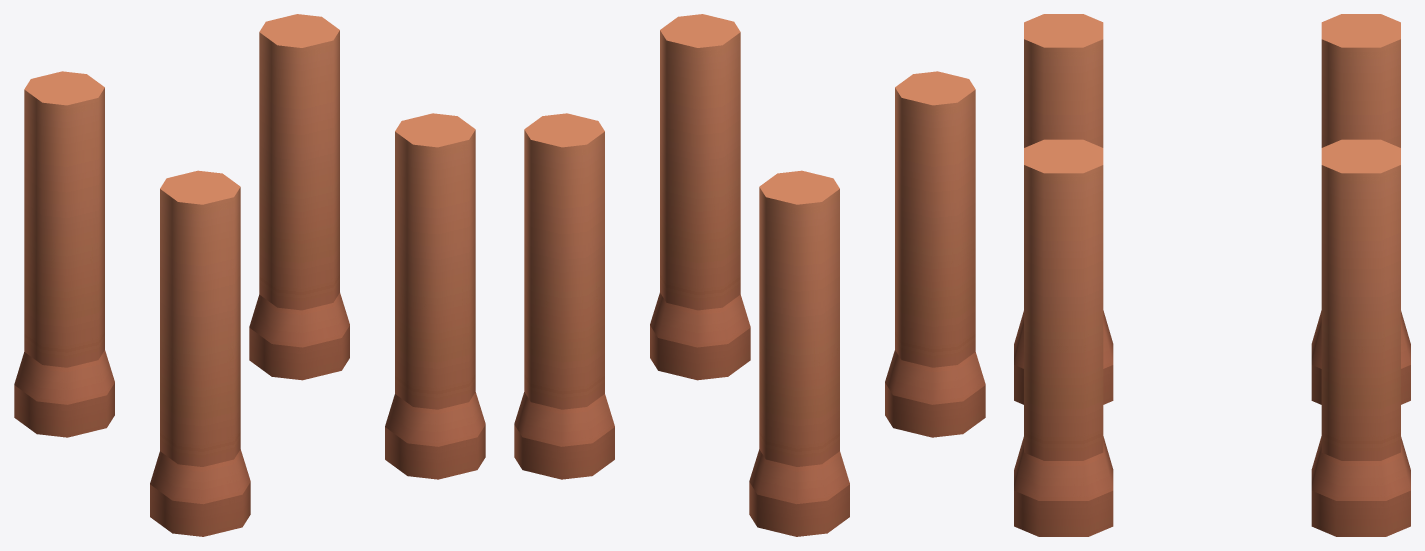
The model's file is supports-bottom.glb.
3 renders of one model, left to right at view 1: azimuth 30°, elevation 25°; view 2: azimuth 150°, elevation 25°; view 3: azimuth 270°, elevation 25°, orthographic. The views are drawn at different scales.
Parts seen in each view (by area): view 1: supports-bottom; view 2: supports-bottom; view 3: supports-bottom.
Part boxes in pixels (x1,y1,x2,y2): supports-bottom: [14, 14, 485, 536]; supports-bottom: [514, 14, 985, 536]; supports-bottom: [1014, 14, 1410, 536].
Bounding box in the file's own units: 1 × 1 × 1.
1 material, 1 textured.
